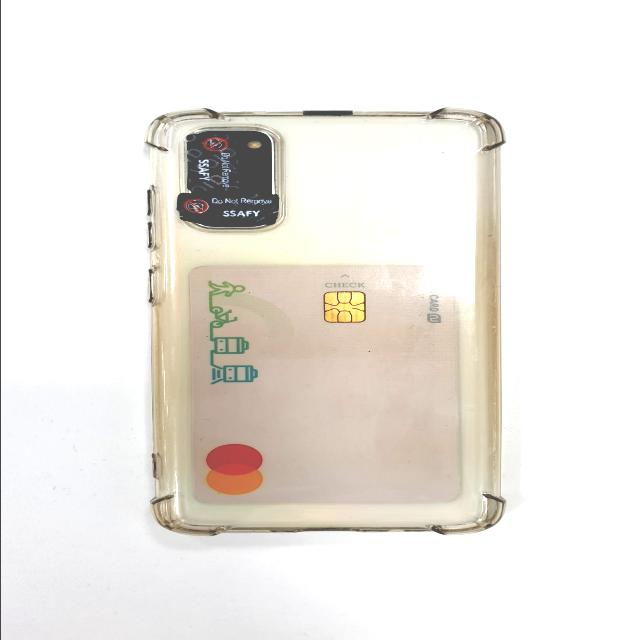phone: (142, 108, 508, 538)
removed_sticker: (178, 194, 280, 222), (188, 134, 235, 192)
